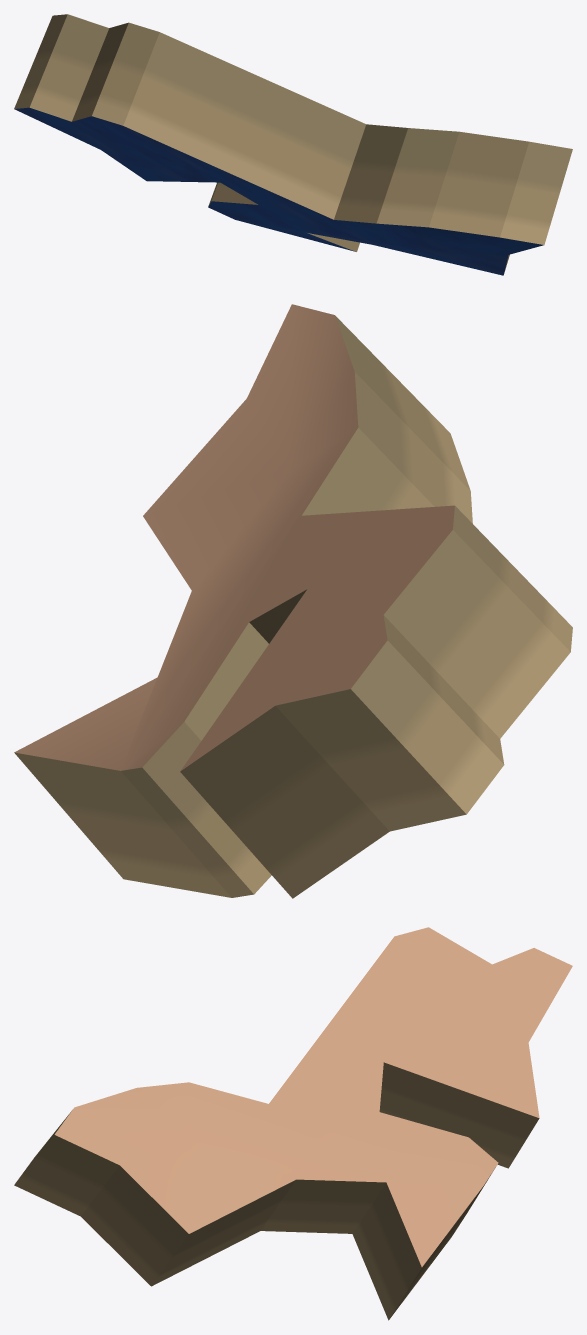
File: 0661_Mozambique.glb
3 renders of one model, top to bottom at view 1: azimuth 30°, elevation 25°; view 2: azimuth 150°, elevation 25°; view 3: azimuth 270°, elevation 25°, orthographic. The views are drawn at different scales.
Visible parts, largest first — view 1: part_0; view 2: part_0; view 3: part_0.
Boxes of the visible parts, left/top/right/bottom form: part_0: left=14, top=14, right=572, bottom=275; part_0: left=14, top=304, right=572, bottom=898; part_0: left=14, top=927, right=572, bottom=1320.
Size of the model in its own units: 0.8013 by 0.5738 by 1.02.
1 material, 1 textured.
